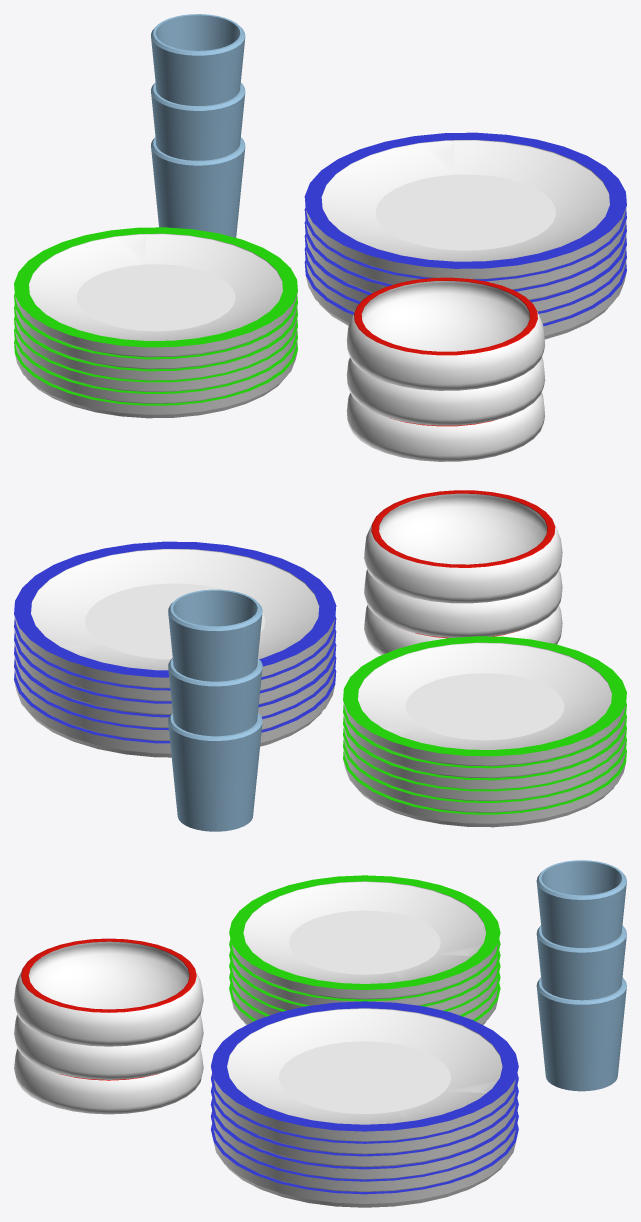
File: plates.fbx
The picture shows the model from 3 angles, top to bottom: view 1: azimuth 30°, elevation 25°; view 2: azimuth 150°, elevation 25°; view 3: azimuth 270°, elevation 25°; orthographic projection. The views are drawn at different scales.
Parts seen in each view (by area): view 1: Cylinder.004, Cylinder.012, Cylinder.014, Cylinder.017, Cylinder, Cylinder.013, Cylinder.015, Cylinder.016, Cylinder.007, Cylinder.011, Cylinder.008, Cylinder.010 (+6 smaller); view 2: Cylinder.004, Cylinder.012, Cylinder.014, Cylinder.015, Cylinder.017, Cylinder.013, Cylinder.016, Cylinder.007, Cylinder.001, Cylinder.011, Cylinder.008, Cylinder.010 (+6 smaller); view 3: Cylinder.004, Cylinder.012, Cylinder.014, Cylinder.015, Cylinder.017, Cylinder, Cylinder.013, Cylinder.001, Cylinder.016, Cylinder.006, Cylinder.003, Cylinder.005 (+6 smaller).
Part boxes in pixels (<box>): Cylinder.004: <box>304,132,626,279</box>; Cylinder.012: <box>14,227,297,357</box>; Cylinder.014: <box>346,277,545,390</box>; Cylinder.017: <box>151,14,245,105</box>; Cylinder: <box>346,392,545,461</box>; Cylinder.013: <box>346,357,545,425</box>; Cylinder.015: <box>151,137,245,237</box>; Cylinder.016: <box>151,82,245,160</box>; Cylinder.007: <box>14,341,297,418</box>; Cylinder.011: <box>14,294,297,369</box>; Cylinder.008: <box>14,329,297,403</box>; Cylinder.010: <box>14,306,297,380</box>; Cylinder.004: <box>14,541,336,688</box>; Cylinder.012: <box>343,636,626,766</box>; Cylinder.014: <box>364,490,562,603</box>; Cylinder.015: <box>168,713,262,831</box>; Cylinder.017: <box>168,589,262,681</box>; Cylinder.013: <box>364,569,562,637</box>; Cylinder.016: <box>168,658,262,736</box>; Cylinder.007: <box>343,750,626,827</box>; Cylinder.001: <box>14,669,336,757</box>; Cylinder.011: <box>343,703,626,778</box>; Cylinder.008: <box>343,738,626,812</box>; Cylinder.010: <box>343,715,626,789</box>; Cylinder.004: <box>211,1001,518,1141</box>; Cylinder.012: <box>229,875,500,999</box>; Cylinder.014: <box>14,938,203,1046</box>; Cylinder.015: <box>536,978,626,1091</box>; Cylinder.017: <box>536,860,626,947</box>; Cylinder: <box>14,1048,203,1114</box>; Cylinder.013: <box>14,1015,203,1079</box>; Cylinder.001: <box>211,1123,518,1207</box>; Cylinder.016: <box>536,925,626,1000</box>; Cylinder.006: <box>210,1085,518,1167</box>; Cylinder.003: <box>210,1098,518,1179</box>; Cylinder.005: <box>211,1073,518,1154</box>.
Size of the model in its own units: 410 by 150 by 398.
